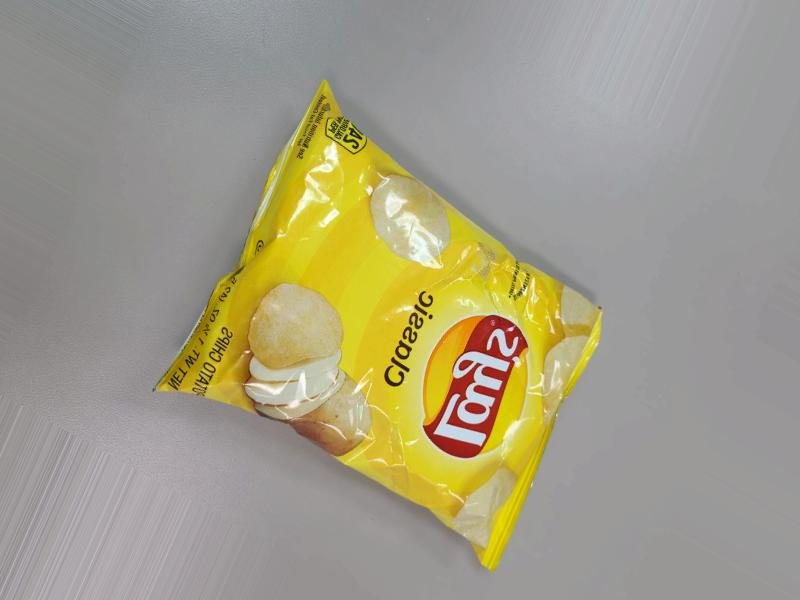lays: (247, 53, 601, 600)
